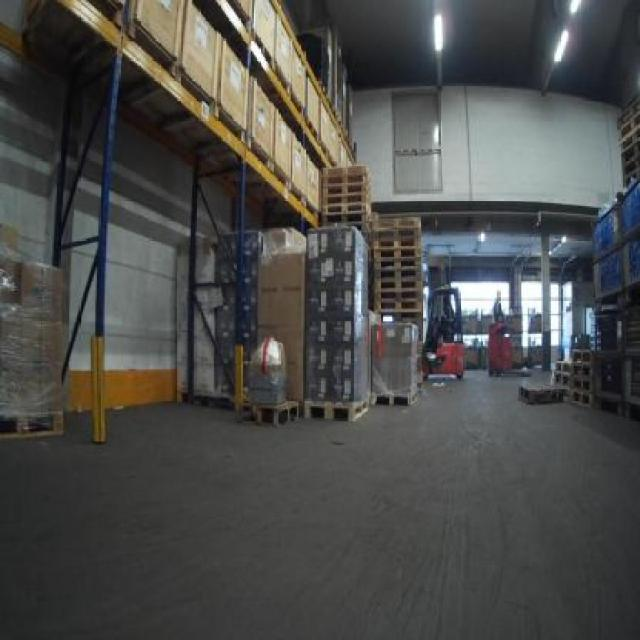pallet: (301, 388, 377, 426), (0, 404, 71, 444), (310, 199, 374, 221), (313, 193, 375, 214), (362, 252, 436, 268), (372, 297, 431, 317), (316, 162, 381, 180), (368, 233, 428, 252), (367, 213, 430, 231), (362, 228, 432, 244), (369, 284, 428, 302), (317, 174, 374, 192), (367, 389, 427, 406), (564, 373, 603, 398), (566, 382, 597, 411), (365, 276, 429, 290), (363, 264, 429, 277), (313, 183, 374, 196), (567, 344, 602, 365)
